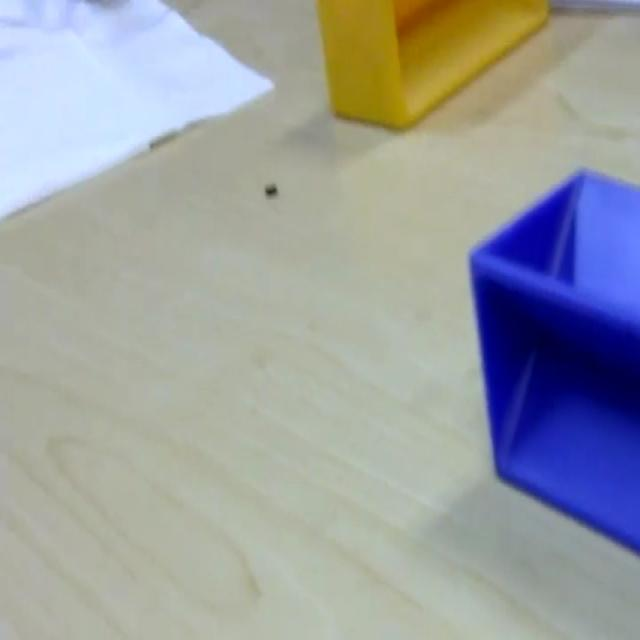blue_block: (466, 164, 638, 553)
yellow_block: (314, 0, 550, 131)
